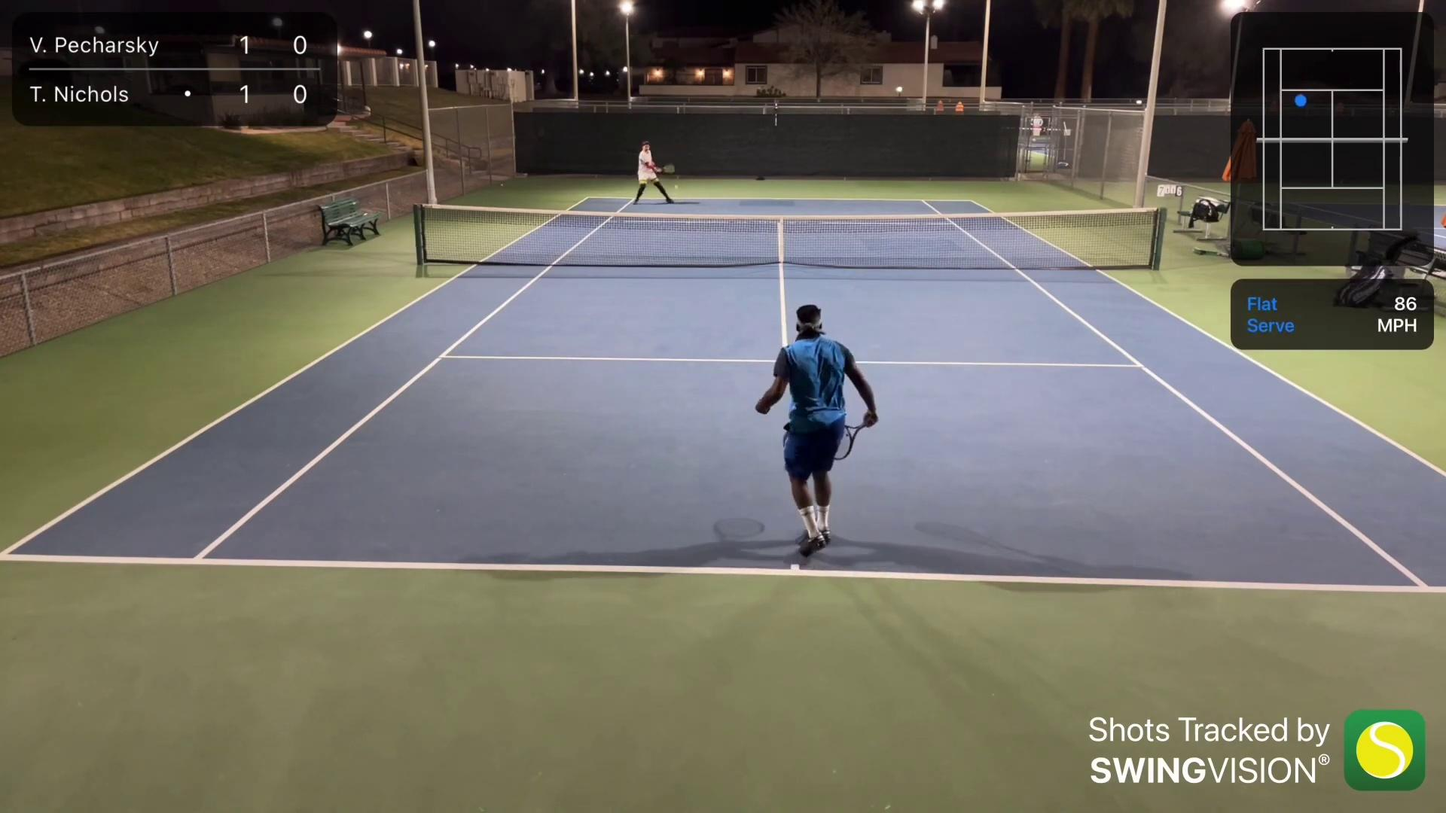ball: (673, 184, 680, 190)
